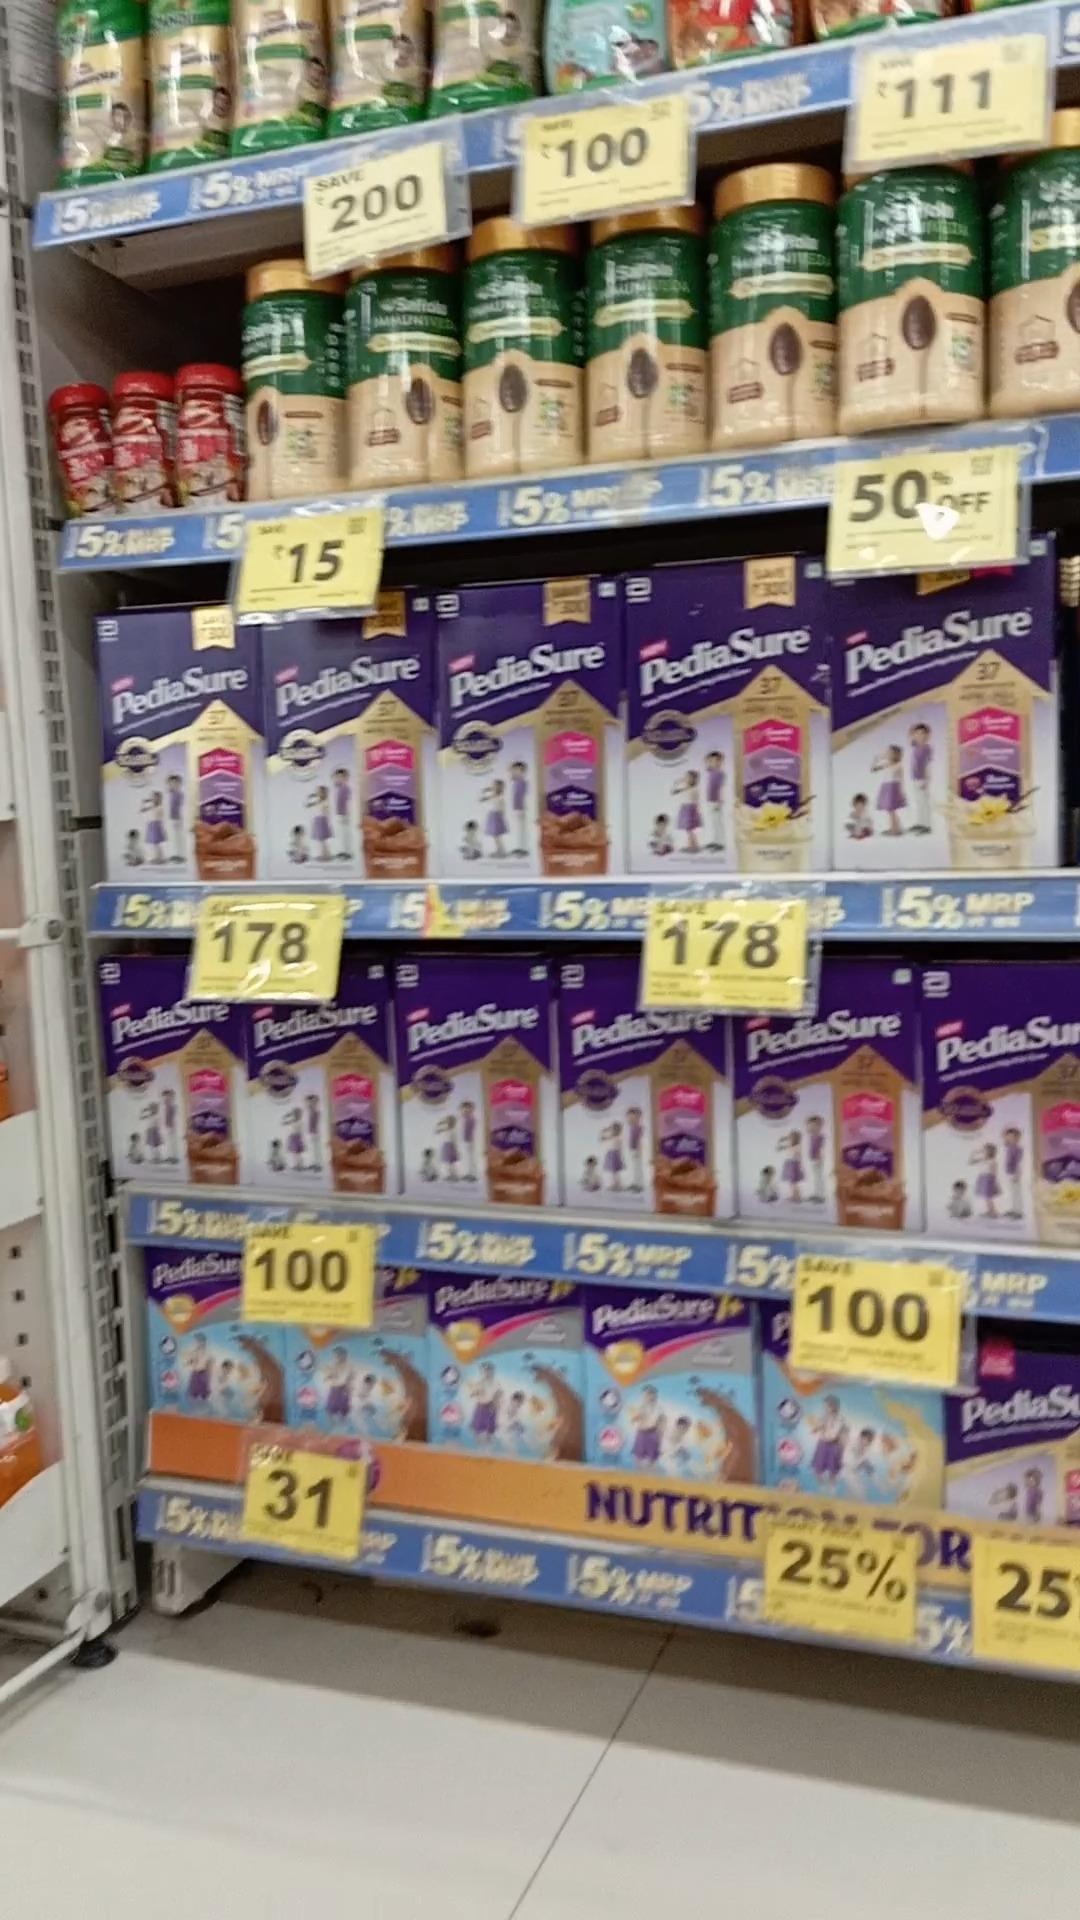PEDIASURE_7_PLUS_CHOCOLATE_400_G_PACK: (589, 1286, 752, 1481), (430, 1271, 583, 1455), (141, 1253, 276, 1427), (282, 1324, 425, 1439)
PEDIASURE_CHOCOLATE_500_G_PACK: (439, 589, 612, 878), (744, 985, 919, 1233), (555, 969, 724, 1218), (100, 615, 257, 881), (274, 607, 426, 880), (401, 959, 551, 1209), (252, 986, 394, 1197), (108, 961, 240, 1182)
PEDIASURE_VANILLA_500_G_PACK: (840, 575, 1056, 869), (630, 554, 823, 872), (926, 960, 1080, 1237)
